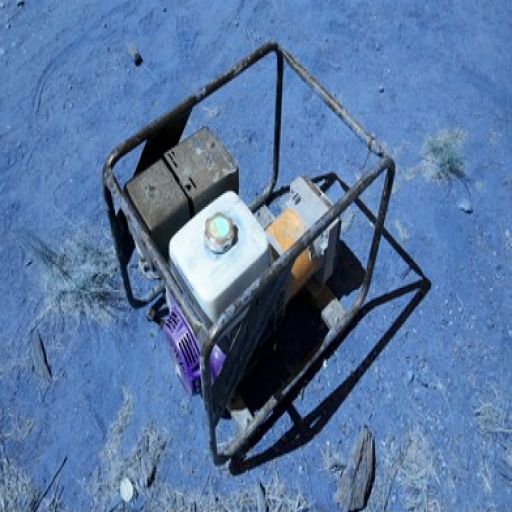portable_generator: (100, 39, 398, 461)
